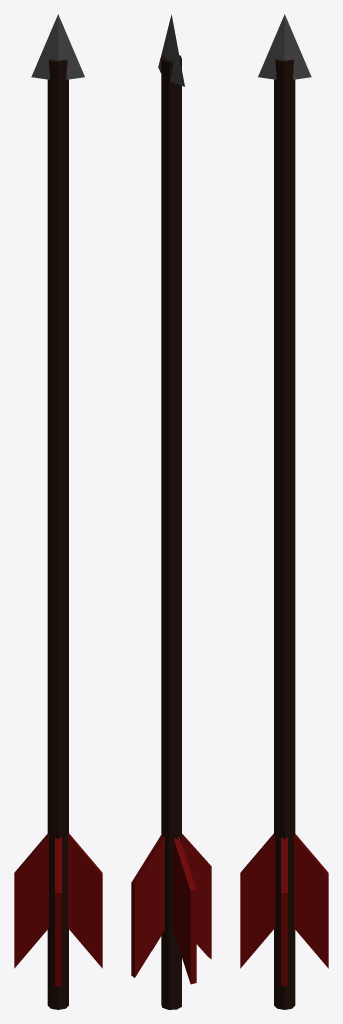
Rendered from Arrow.FBX.
The picture shows the model from 3 angles, left to right: view 1: azimuth 90°, elevation 25°; view 2: azimuth 210°, elevation 25°; view 3: azimuth 270°, elevation 25°; orthographic projection.
Visible parts, largest first — view 1: Shaft, Fins, ArrowTip; view 2: Shaft, Fins, ArrowTip; view 3: Shaft, Fins, ArrowTip.
Part boxes in pixels (left/top/right/bottom): Shaft: left=47, top=59, right=68, bottom=1009; Fins: left=14, top=833, right=102, bottom=986; ArrowTip: left=31, top=14, right=84, bottom=79; Shaft: left=161, top=55, right=181, bottom=1009; Fins: left=131, top=834, right=211, bottom=984; ArrowTip: left=158, top=15, right=184, bottom=86; Shaft: left=274, top=59, right=295, bottom=1009; Fins: left=240, top=833, right=328, bottom=986; ArrowTip: left=258, top=14, right=311, bottom=79.
Size of the model in its own units: 16.28 by 201 by 16.28.
